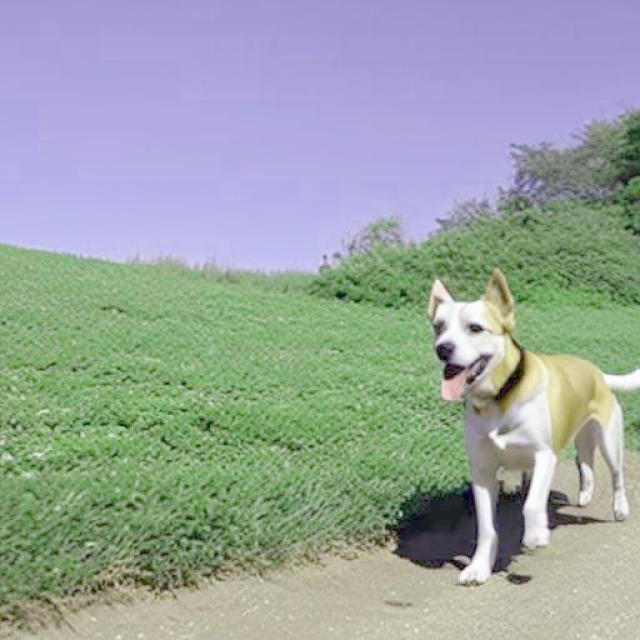Dog: (426, 268, 640, 585)
